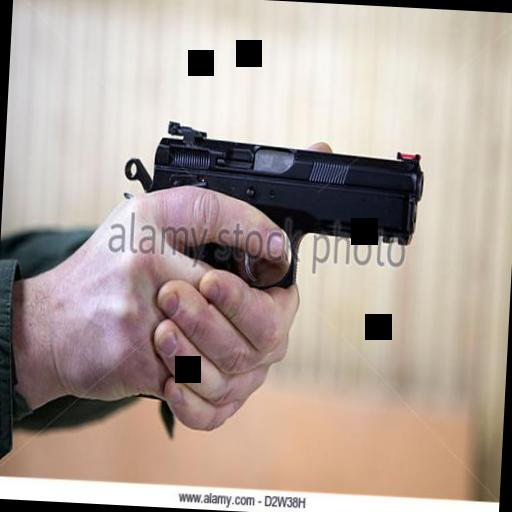Handgun: (119, 132, 429, 414)
